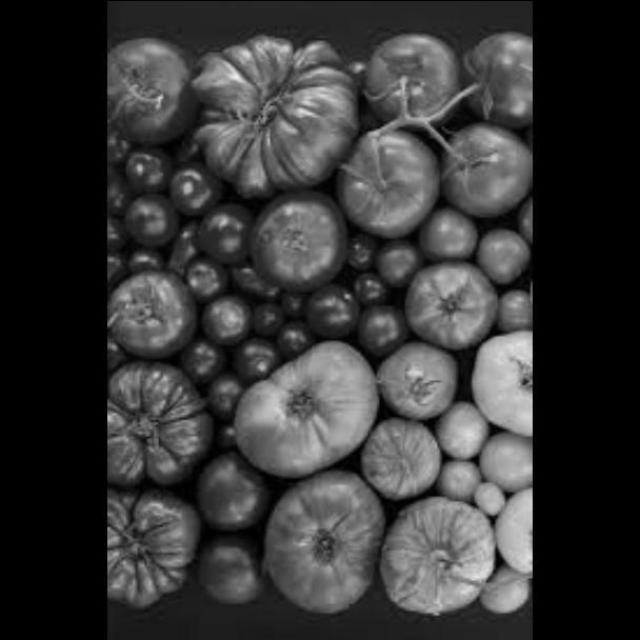tomato: (187, 42, 346, 196), (232, 342, 374, 477), (260, 471, 380, 620), (199, 272, 412, 355), (106, 147, 231, 286), (371, 490, 488, 619), (348, 205, 532, 279), (106, 376, 208, 494), (336, 116, 436, 231), (106, 486, 199, 607), (242, 187, 352, 289), (361, 30, 464, 128), (106, 264, 199, 362), (399, 264, 496, 353), (106, 36, 189, 140), (349, 415, 443, 505), (469, 309, 531, 443), (369, 335, 460, 425), (195, 513, 281, 607), (441, 124, 527, 213), (186, 454, 283, 530), (454, 33, 531, 121), (481, 492, 532, 586), (427, 391, 493, 460), (474, 427, 530, 501), (470, 560, 530, 623), (433, 453, 483, 507), (465, 478, 510, 522)
